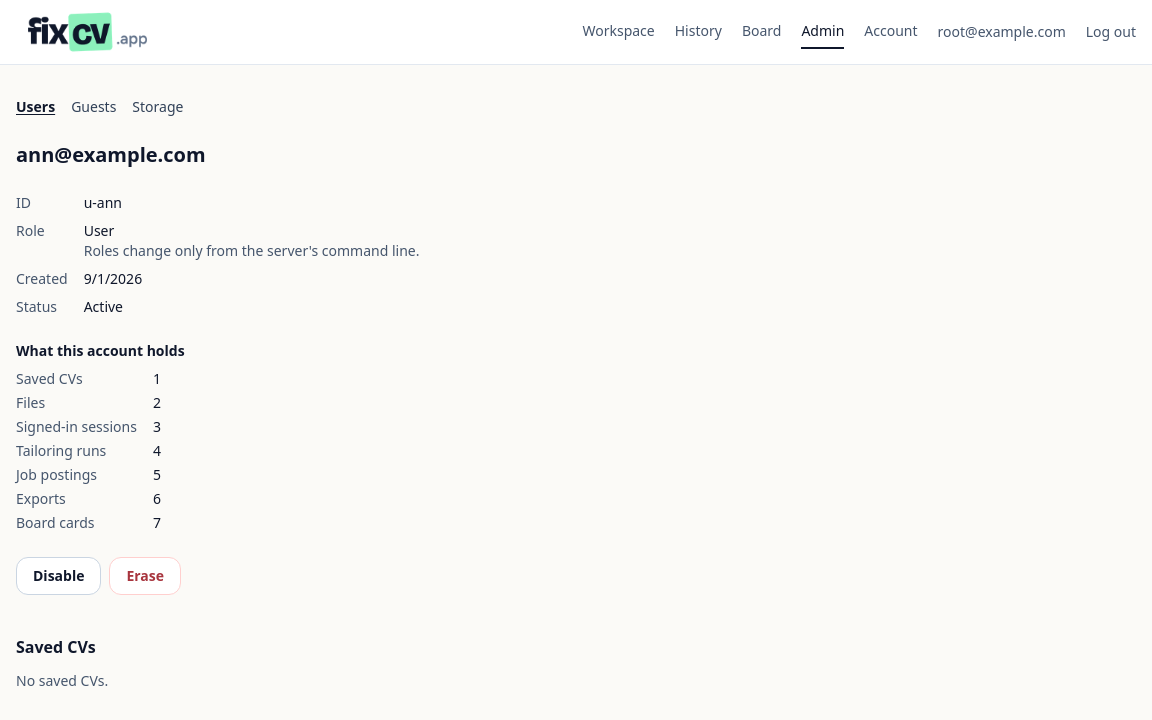
Test: Disable and enable — AC-34 › not optimistic: while the POST is in flight the status still reads Active
Click the button "Disable". click: (59, 576)
box: 16,557 -> 102,595
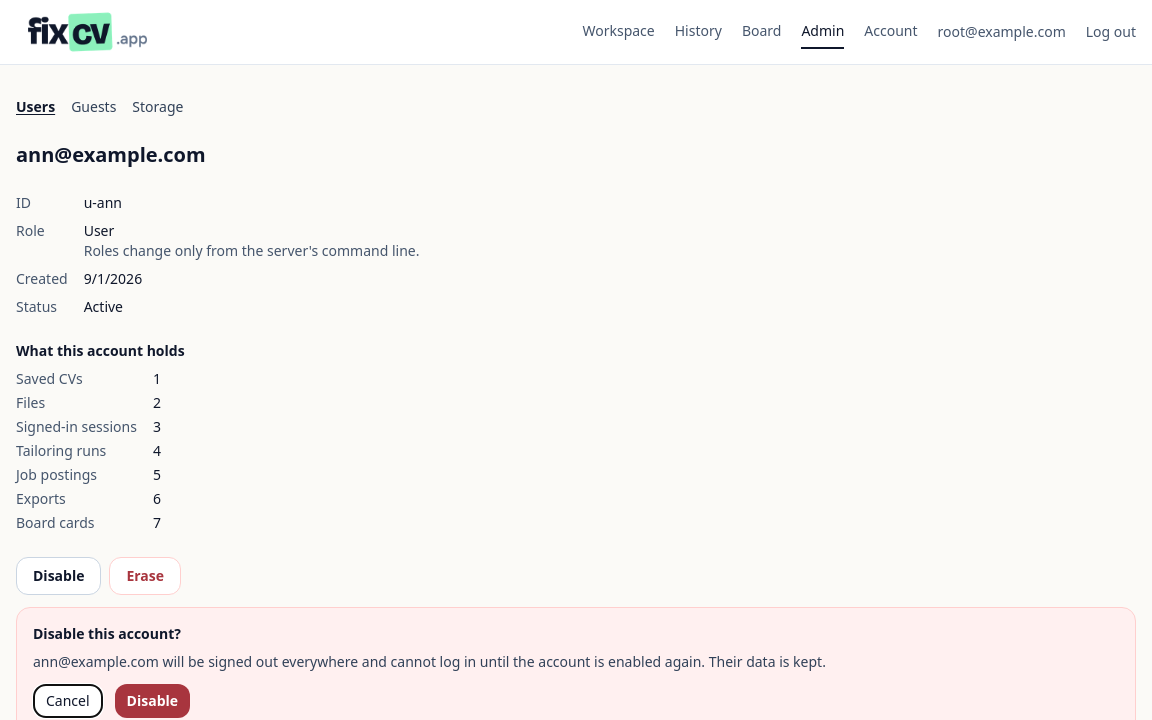
Click the button "Disable" below "Disable this account?". click: (152, 701)
box: 115,684 -> 190,718
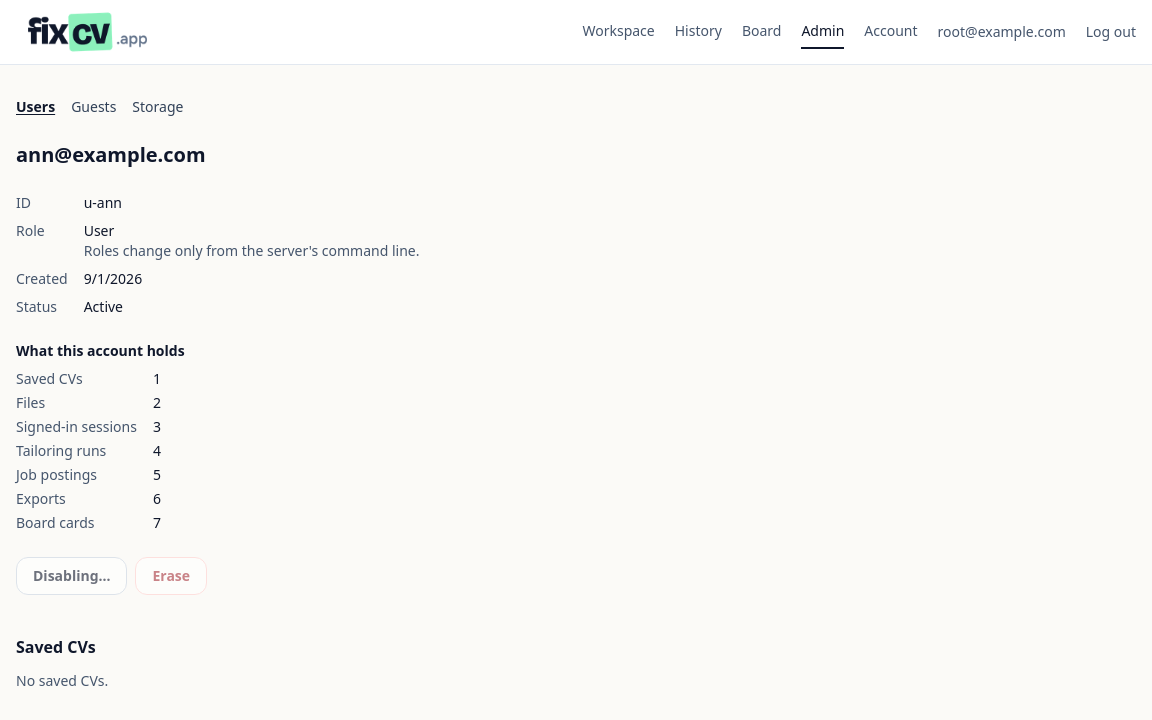
Check: the text "Active" is shown, box 84,297 -> 123,316
Check: the button "Disabling…" is disabled, box 16,557 -> 128,595
